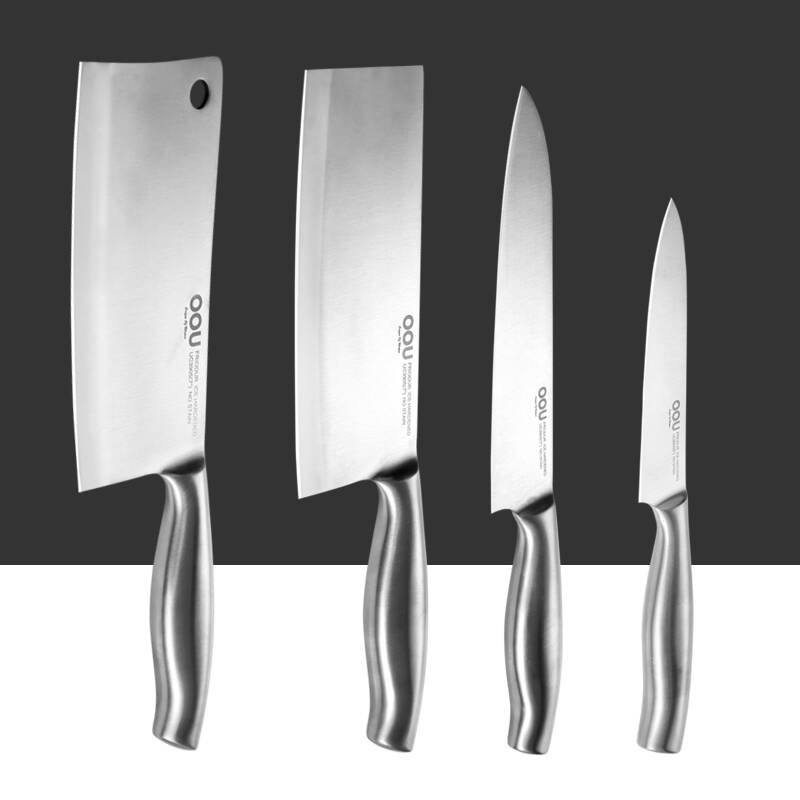knief: (48, 42, 269, 750), (300, 51, 451, 753), (497, 74, 600, 763)
